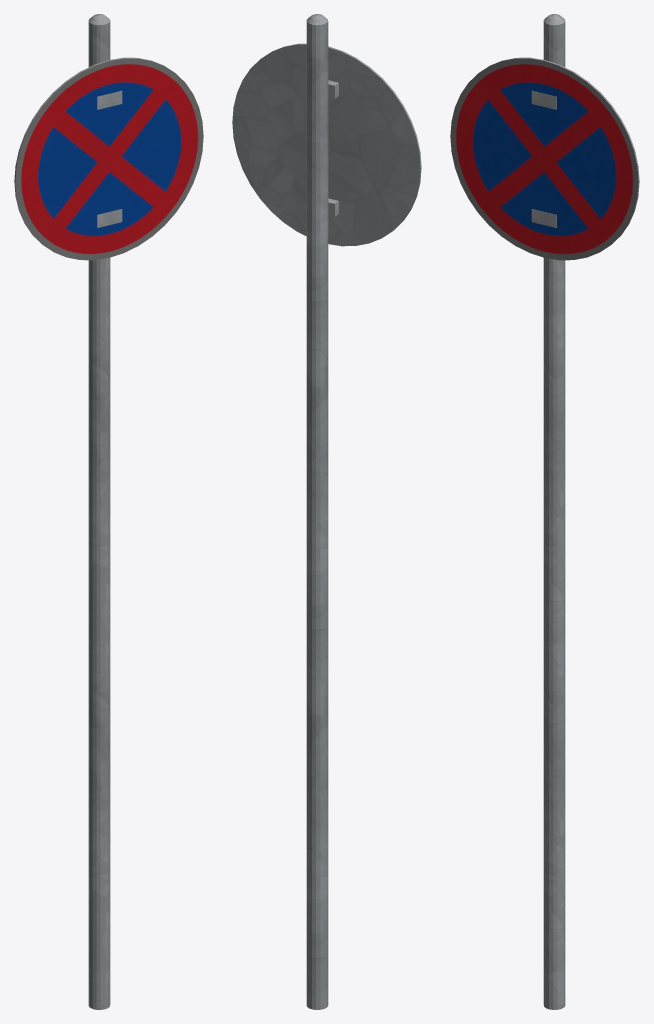
The model's file is SignNoStopping.obj.
The picture shows the model from 3 angles, left to right: view 1: azimuth 30°, elevation 25°; view 2: azimuth 150°, elevation 25°; view 3: azimuth 330°, elevation 25°; orthographic projection.
Parts seen in each view (by area): view 1: Signs, Galvanised; view 2: Galvanised; view 3: Signs, Galvanised.
Part boxes in pixels (x1,y1,x2,y2): Signs: [15, 58, 203, 260]; Galvanised: [14, 14, 163, 1009]; Galvanised: [232, 14, 421, 1009]; Signs: [450, 58, 638, 260]; Galvanised: [490, 14, 639, 1009].
Bounding box in the file's own units: 0.6 × 3.02 × 0.087.
Materials: 2 (2 with a texture image).
